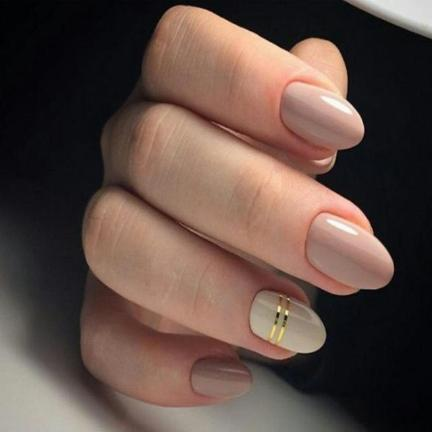Nail: (306, 212, 394, 289), (280, 81, 364, 149), (249, 290, 326, 353), (191, 358, 253, 397)
